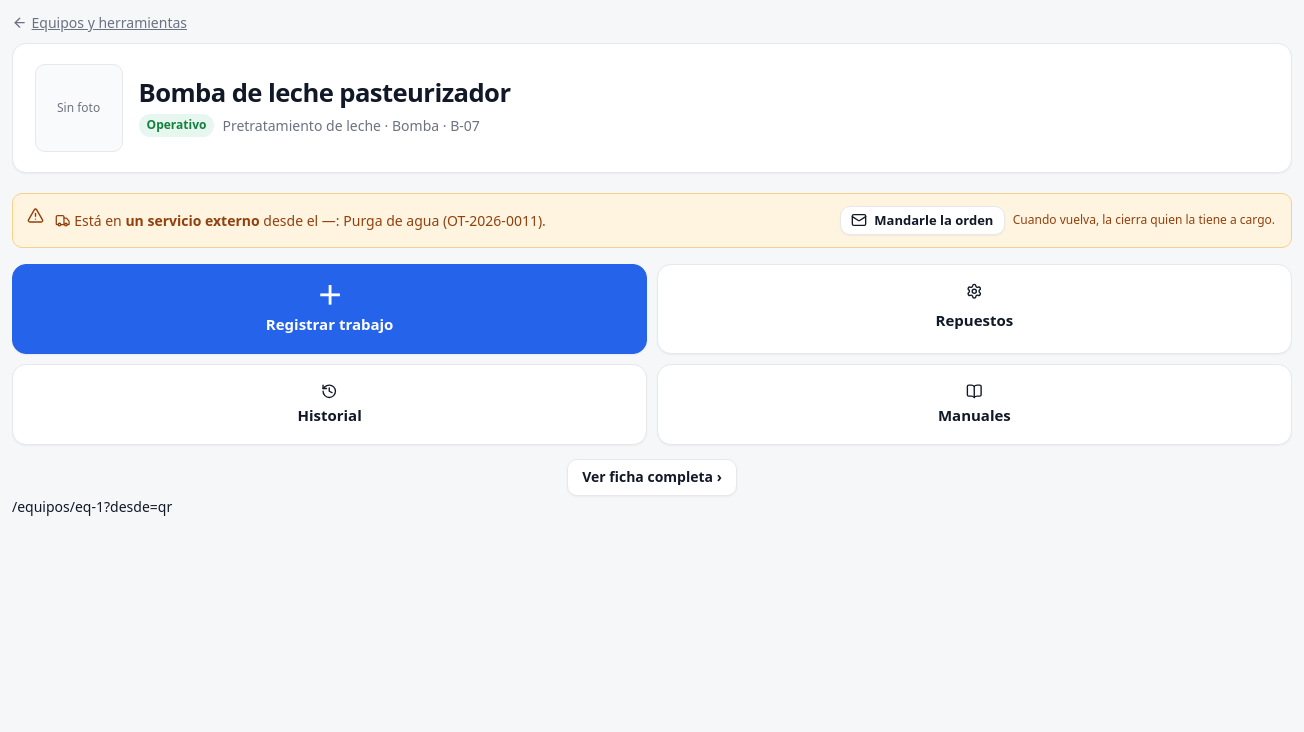
Test: Al pie de la máquina: entrar escaneando el QR › «Ver ficha completa» abre la página normal
Click the button "Ver ficha completa ›": (652, 478) top-left (567, 459), bottom-right (737, 496)
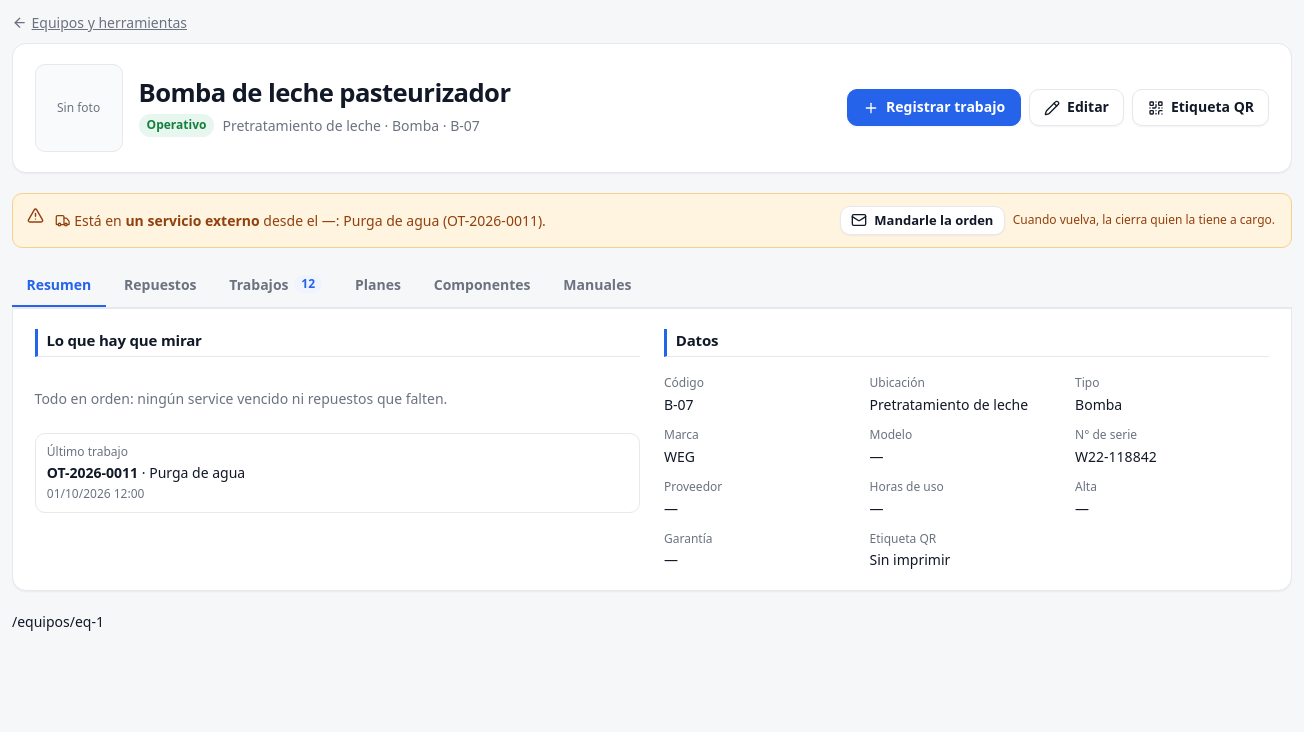
Expected: the text with test id "direccion" reads "/equipos/eq-1", top-left (12, 612), bottom-right (104, 631)
